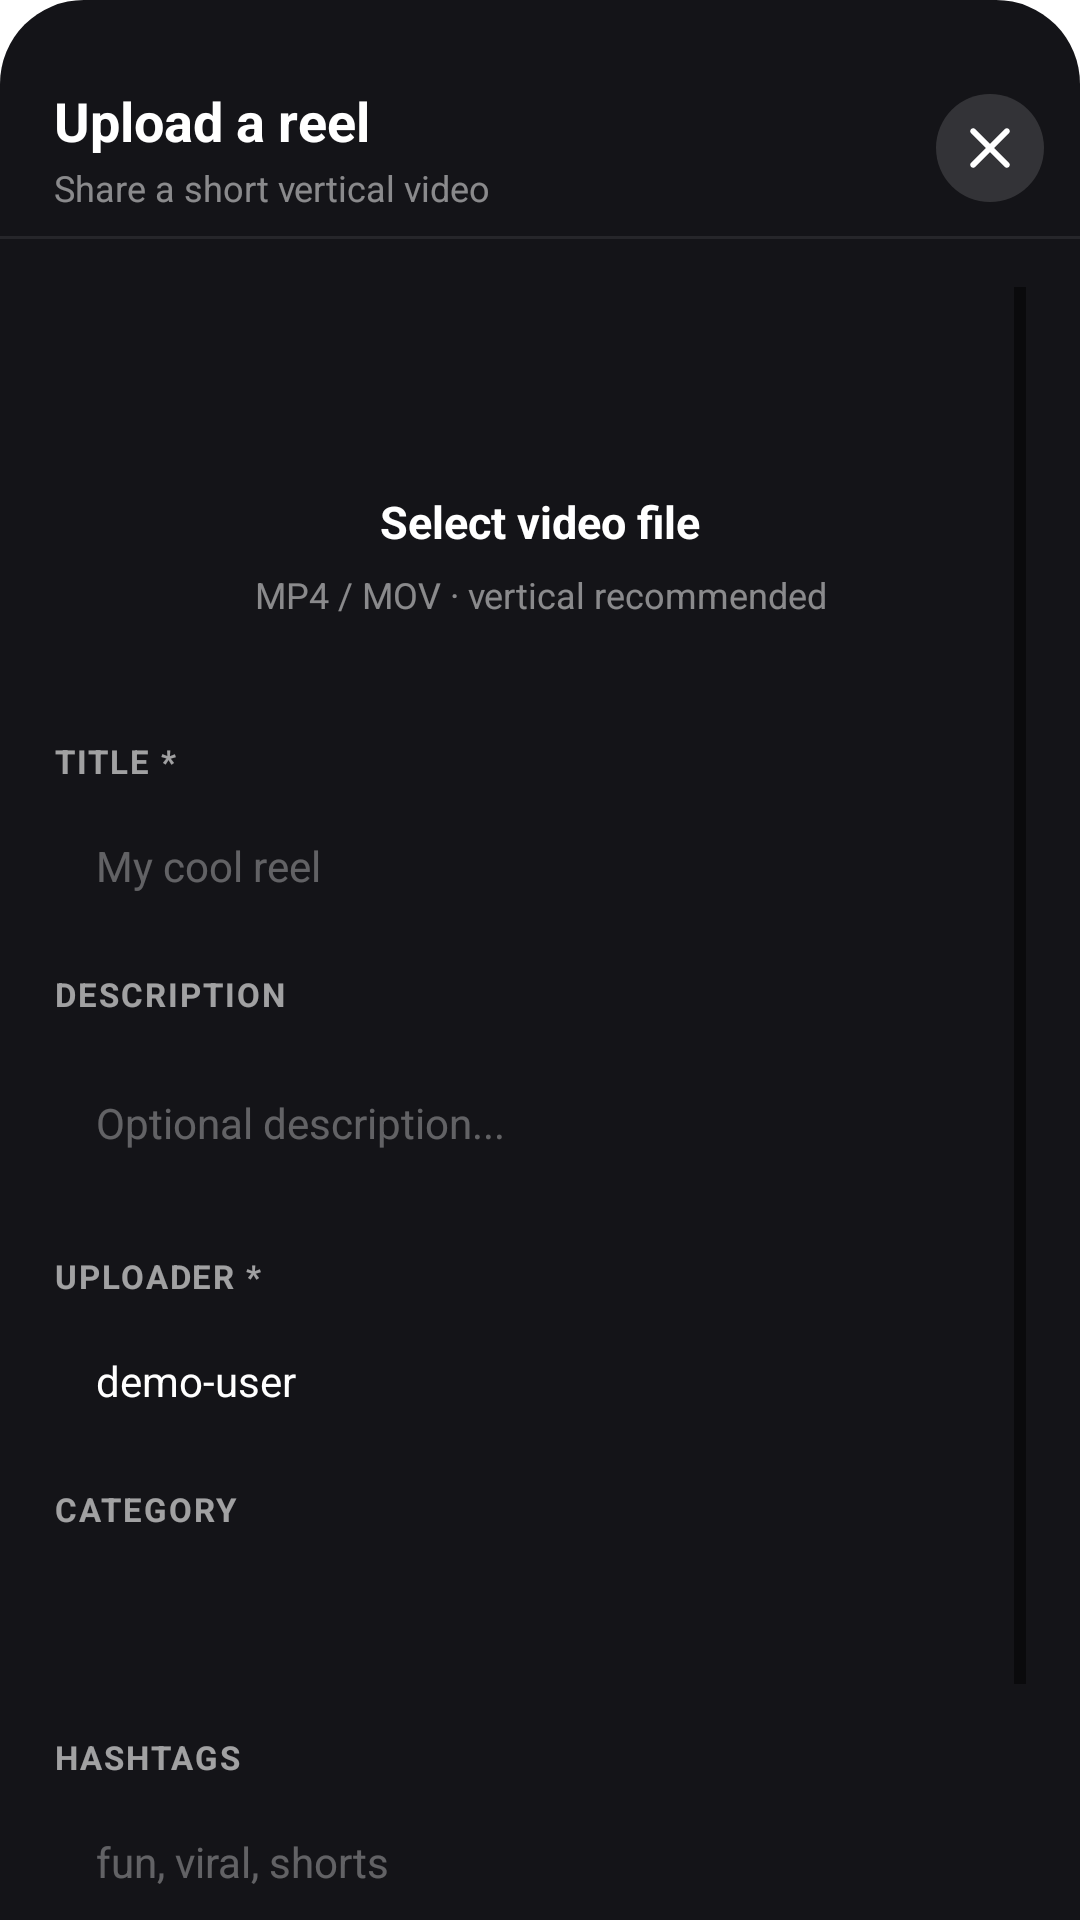

Icons on this 1080px×1920px Android screen, each with its box as (x1, y1, x2, y2):
Close: (936, 94, 1044, 202)
